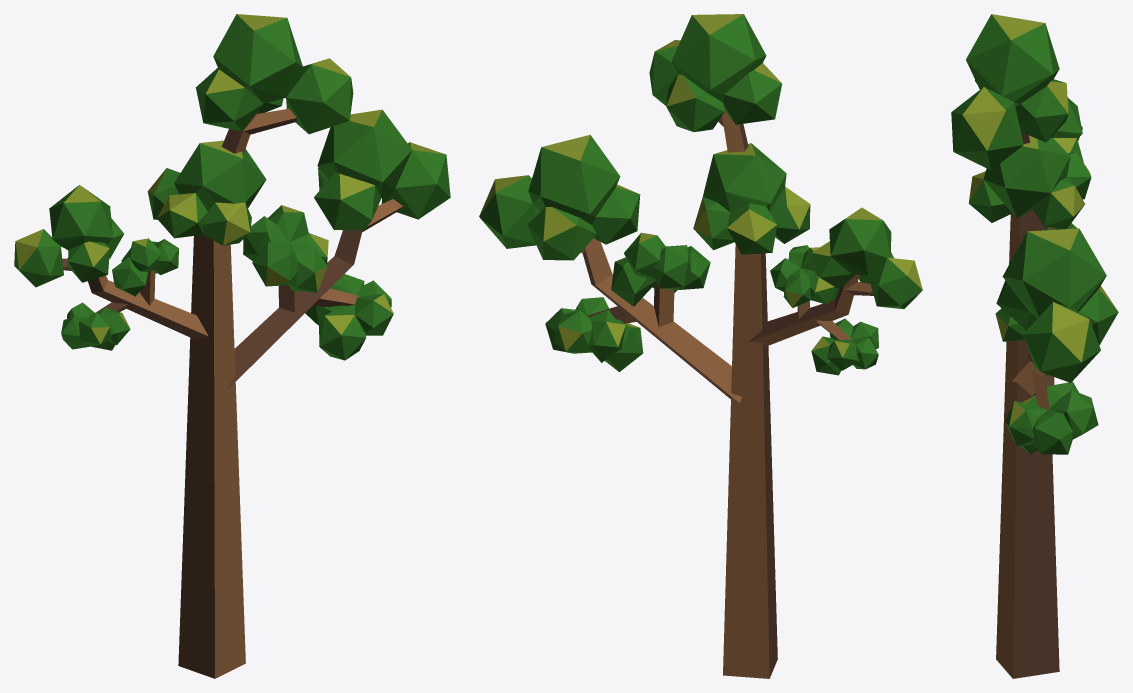
File: TB_D_Env_TreeA_B.FBX
3 renders of one model, left to right at view 1: azimuth 30°, elevation 25°; view 2: azimuth 150°, elevation 25°; view 3: azimuth 270°, elevation 25°, orthographic. The views are drawn at different scales.
Visible parts, largest first — view 1: TB_D_Env_TreeA_B; view 2: TB_D_Env_TreeA_B; view 3: TB_D_Env_TreeA_B.
Part boxes in pixels (left/top/right/bottom): TB_D_Env_TreeA_B: left=14, top=14, right=450, bottom=678; TB_D_Env_TreeA_B: left=479, top=14, right=922, bottom=678; TB_D_Env_TreeA_B: left=951, top=14, right=1118, bottom=678.
Bounding box in the file's own units: 8.98 × 12.75 × 2.91.
